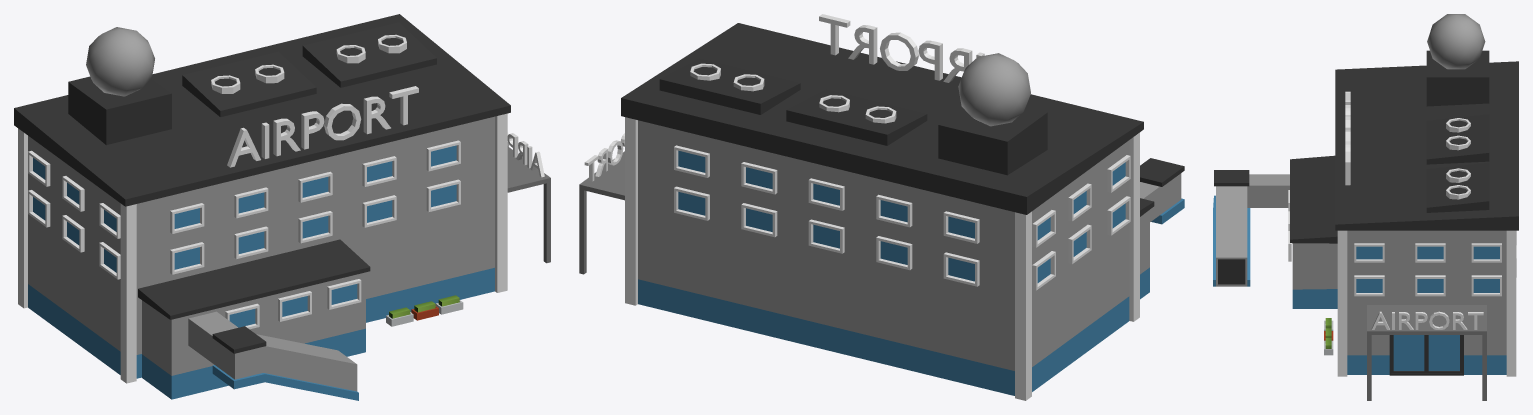
File: Airport_Building.fbx
3 views of the same model, side by side, from view 1: azimuth 30°, elevation 25°; view 2: azimuth 150°, elevation 25°; view 3: azimuth 270°, elevation 25° (orthographic). The views are drawn at different scales.
Visible parts, largest first — view 1: Airport_Building; view 2: Airport_Building; view 3: Airport_Building.
Boxes of the visible parts, x1,y1,x2,y2 form: Airport_Building: (14,14,550,400); Airport_Building: (579,14,1184,400); Airport_Building: (1213,14,1518,400).
Size of the model in its own units: 953 by 584 by 689.
